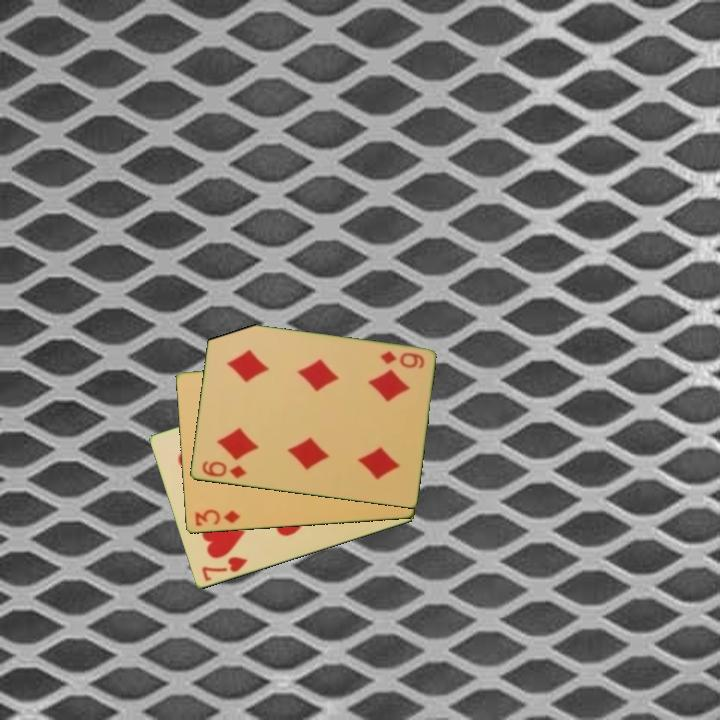3d: (191, 506, 243, 529)
6d: (198, 458, 249, 482), (377, 348, 427, 372)
7h: (198, 553, 250, 584)
